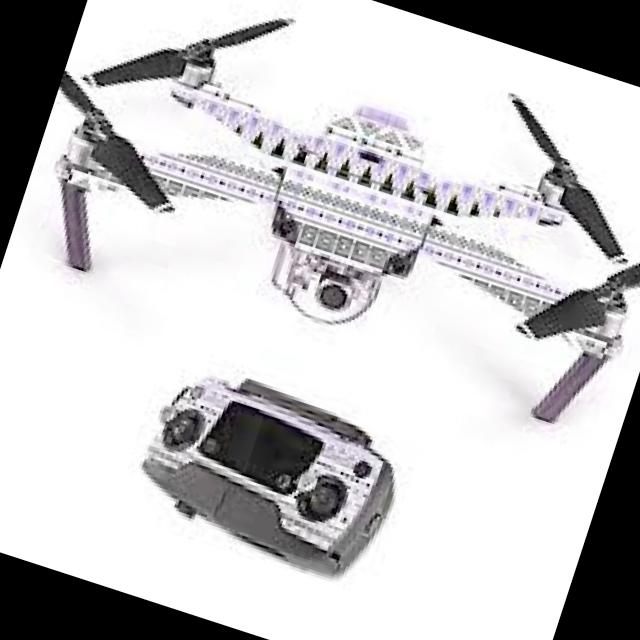drone: (1, 0, 640, 464)
